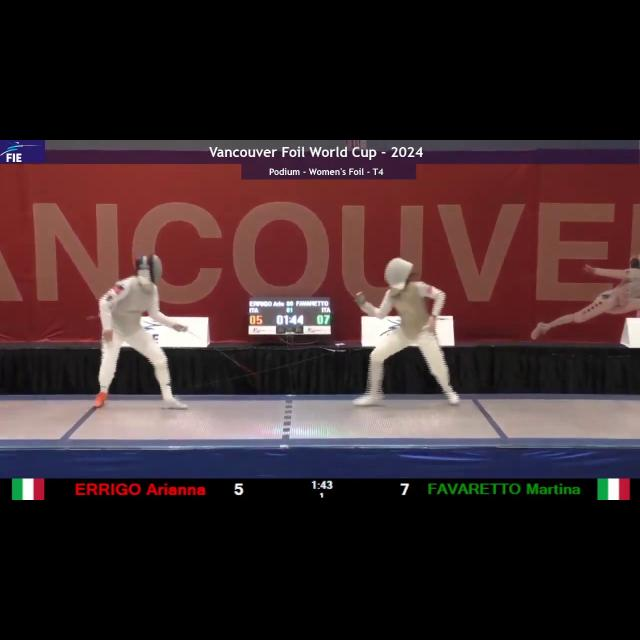blade: (180, 323, 260, 379)
